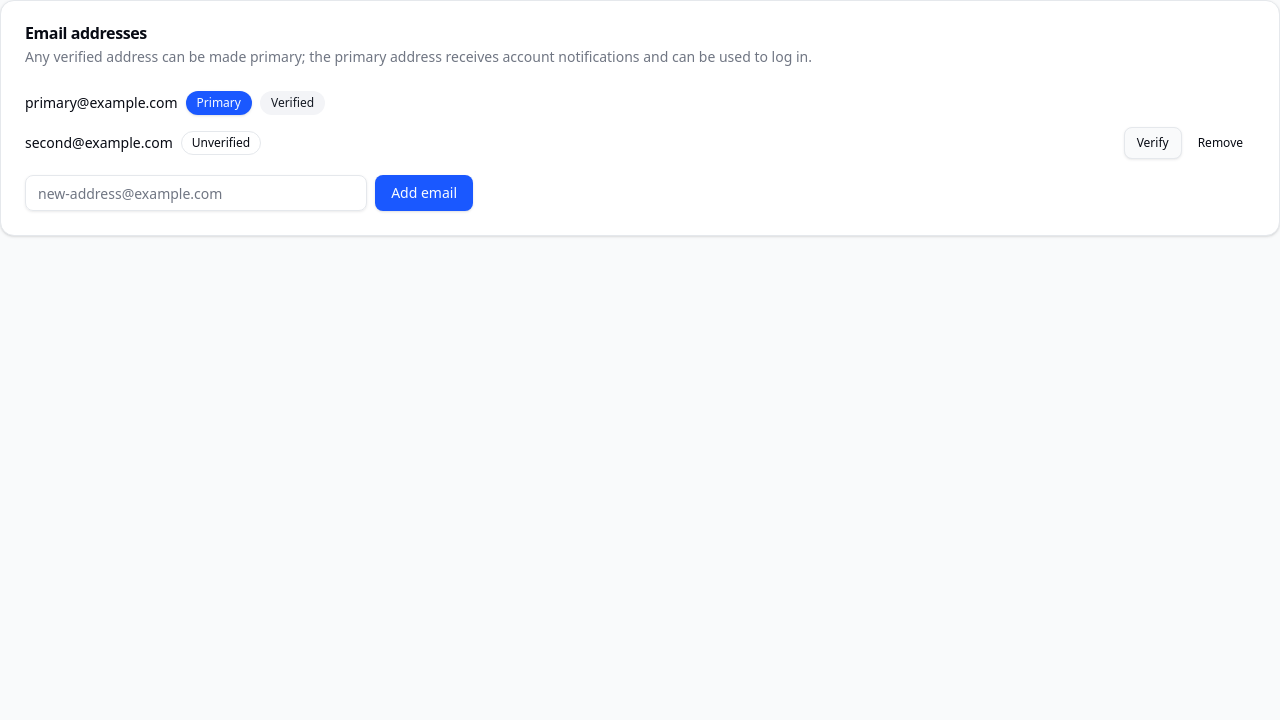
EmailsSection › adds an email and opens the verification dialog
The image size is (1280, 720).
Expected: the text "primary@example.com" is shown, [25,93,178,113]
Type "new@example.com" into the field with placeholder "new-address@example.com". click: (196, 193)
box: [25,175,367,211]
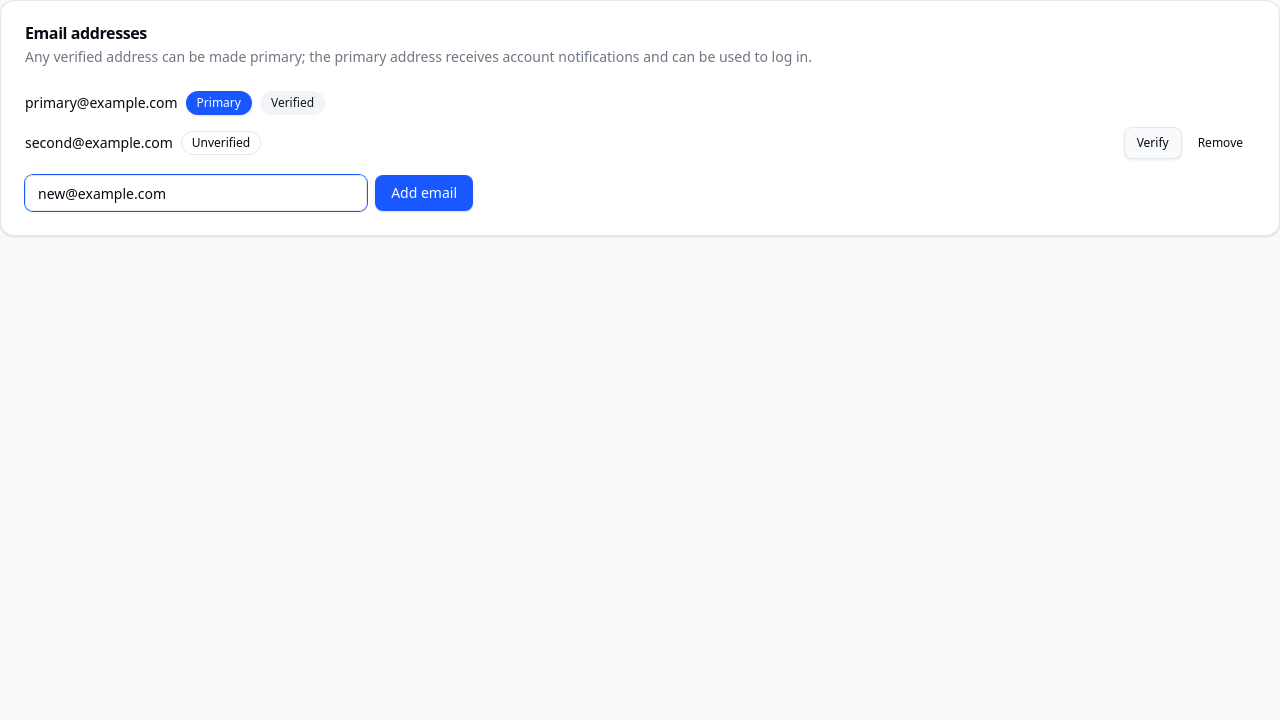
Click the button "Add email". click: (424, 193)
box: [375,175,473,211]
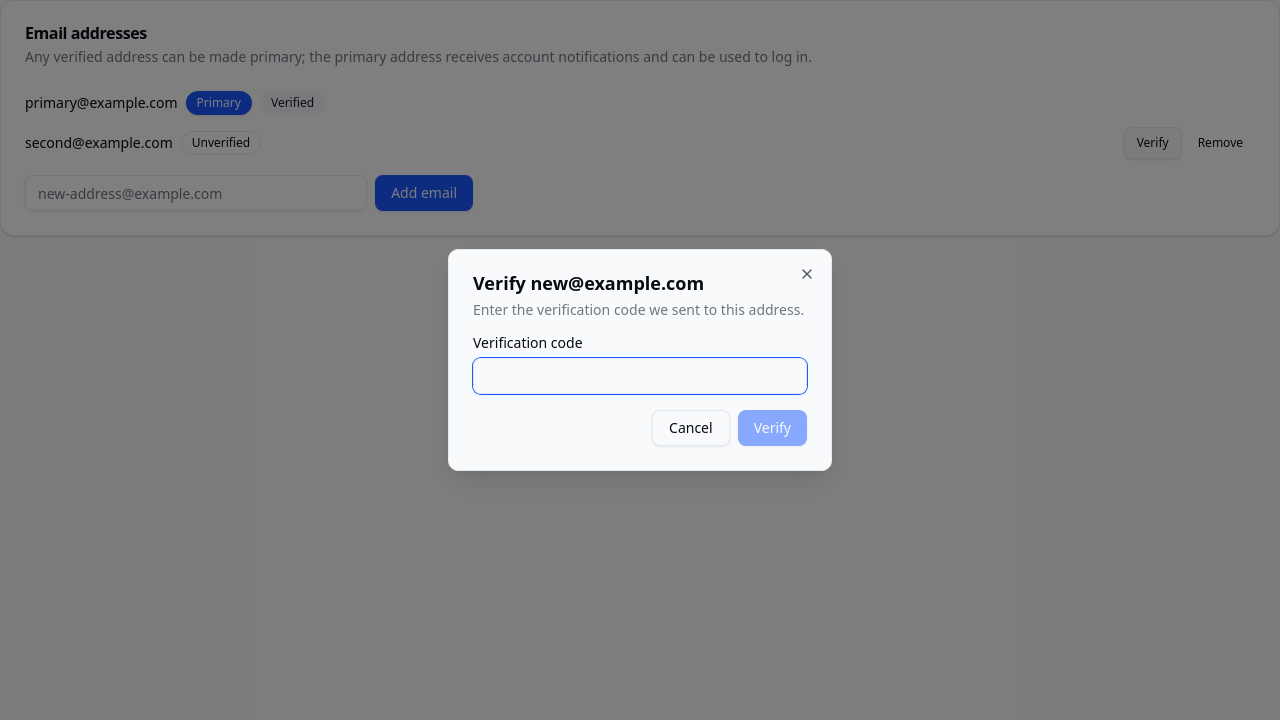
Expected: the heading "Verify new@example.com" is shown, [473,271,704,295]
